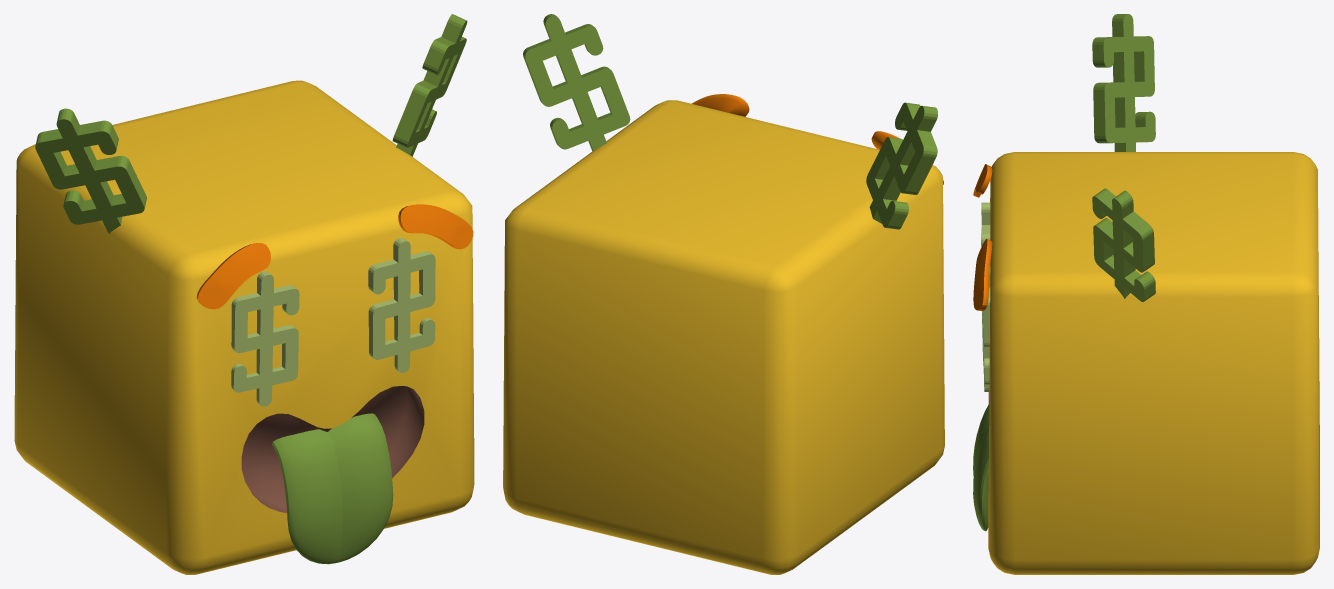
The model's file is Dollar.fbx.
3 views of the same model, side by side, from view 1: azimuth 30°, elevation 25°; view 2: azimuth 150°, elevation 25°; view 3: azimuth 270°, elevation 25° (orthographic). The views are drawn at different scales.
Parts seen in each view (by area): view 1: Dollar; view 2: Dollar; view 3: Dollar.
Part boxes in pixels (left/top/right/bottom): Dollar: left=14, top=14, right=474, bottom=574; Dollar: left=503, top=14, right=944, bottom=574; Dollar: left=973, top=14, right=1319, bottom=574.
Size of the model in its own units: 637 by 632 by 472.
